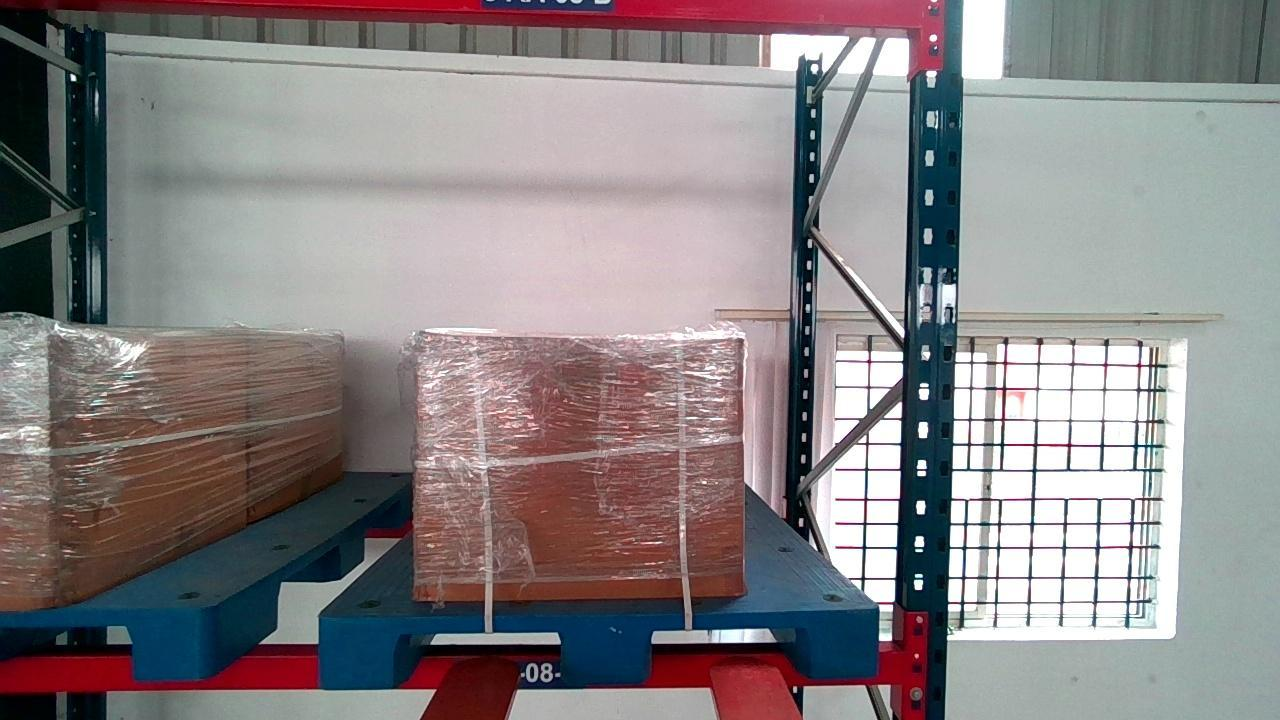h_rack: (2, 646, 908, 694)
small_pallet: (318, 608, 881, 686)
